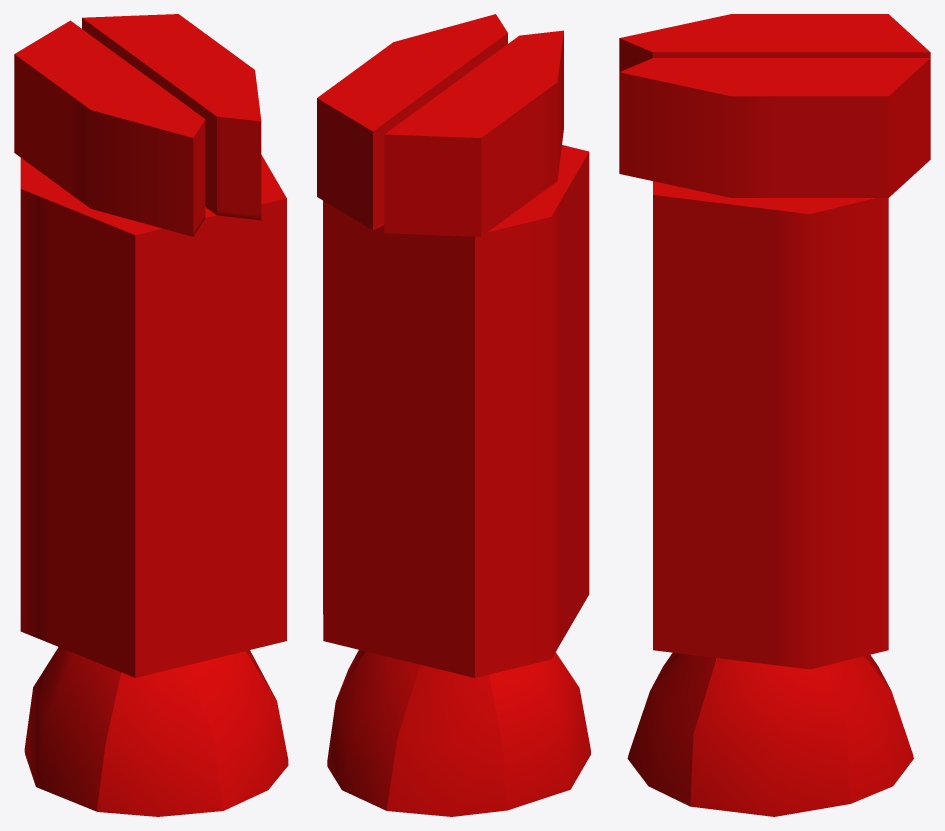
File: SatBody3Unity.fbx
3 views of the same model, side by side, from view 1: azimuth 30°, elevation 25°; view 2: azimuth 150°, elevation 25°; view 3: azimuth 270°, elevation 25° (orthographic). The views are drawn at different scales.
Visible parts, largest first — view 1: SatBody3Transform; view 2: SatBody3Transform; view 3: SatBody3Transform.
Part boxes in pixels (box(x1,y1,x2,y2)): SatBody3Transform: box(14, 14, 288, 816); SatBody3Transform: box(317, 14, 590, 816); SatBody3Transform: box(619, 14, 930, 816).
Size of the model in its own units: 2.23 by 6.26 by 2.51.
